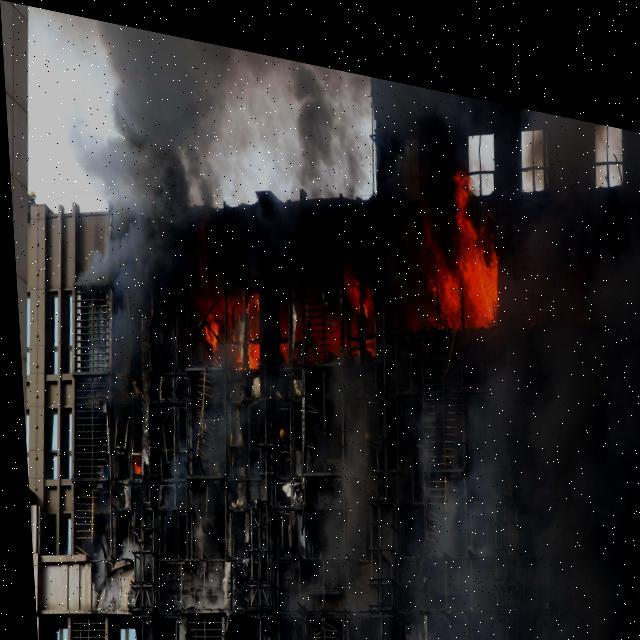Fire: (179, 214, 367, 371), (404, 156, 504, 337)
